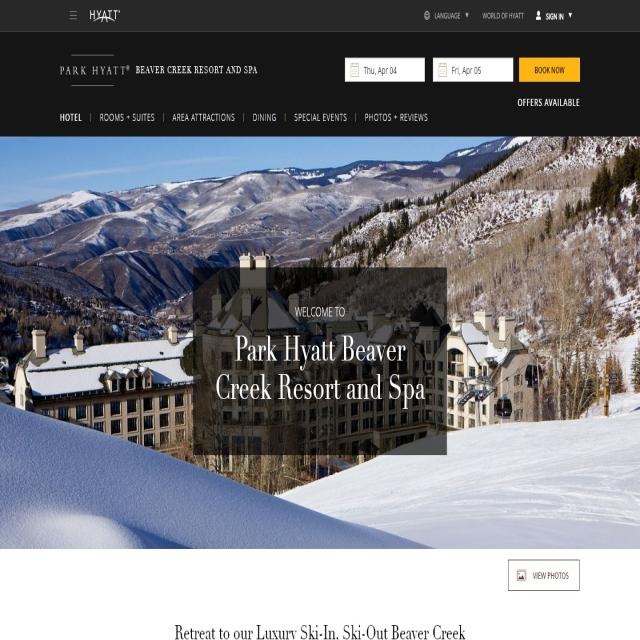button: (508, 559, 580, 591), (67, 0, 125, 32), (168, 108, 240, 133), (520, 56, 580, 83), (361, 107, 431, 130), (94, 109, 160, 128), (422, 2, 470, 27), (477, 2, 527, 26), (287, 110, 353, 128), (534, 3, 576, 30), (247, 108, 282, 130), (57, 108, 88, 130)
field: (345, 56, 425, 83), (434, 57, 513, 84)
heading: (212, 328, 433, 411), (58, 52, 258, 86)
image: (2, 135, 640, 548)
label: (448, 60, 483, 79), (362, 62, 402, 78)
text: (169, 616, 474, 640), (292, 298, 346, 324), (515, 95, 583, 113)
